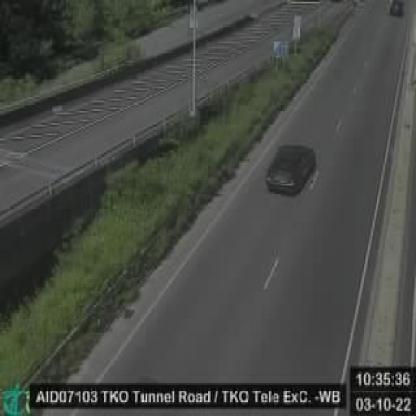Car: (265, 144, 313, 191)
